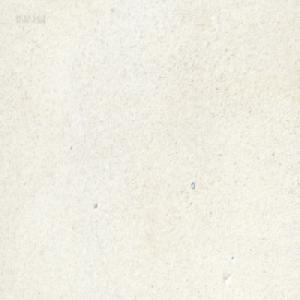Washer: (190, 180, 195, 189)
